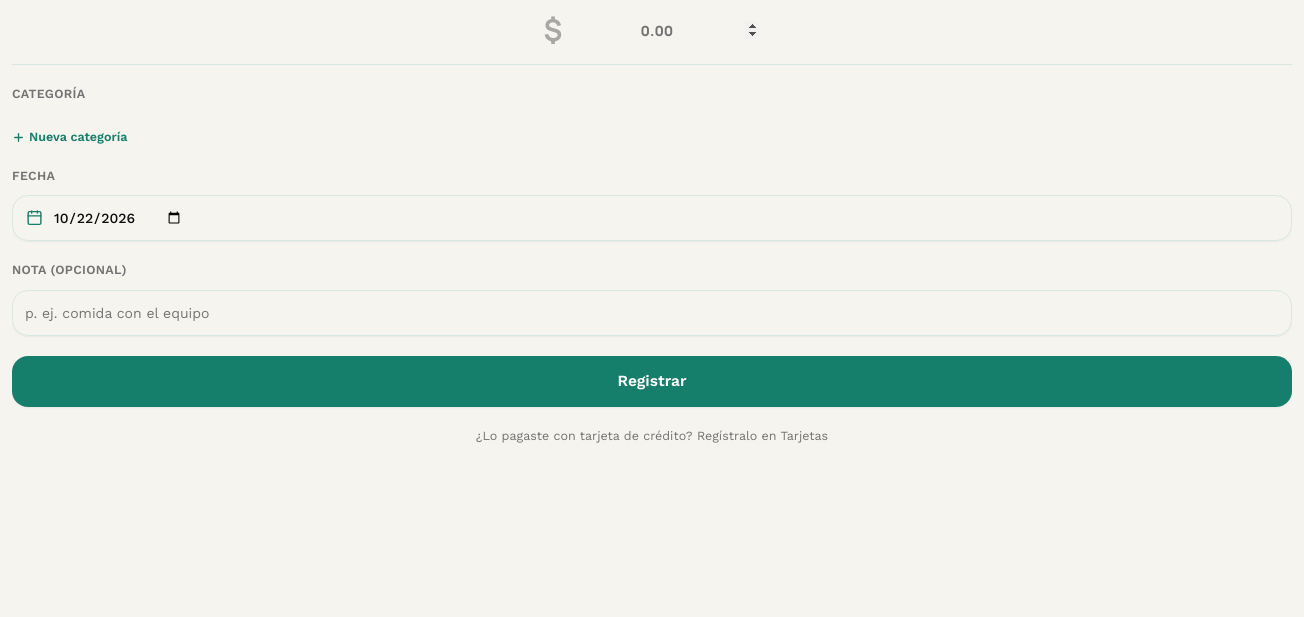
Test: FormularioGasto — pista de la guía sobre los atajos › con la guía en curso y el paso de "Registrar gasto" leído, aparece al escribir un monto
Type "55" into the number field named "¿Cuánto gastaste?" at (664, 30), box x1=568 y1=20 x2=760 y2=40
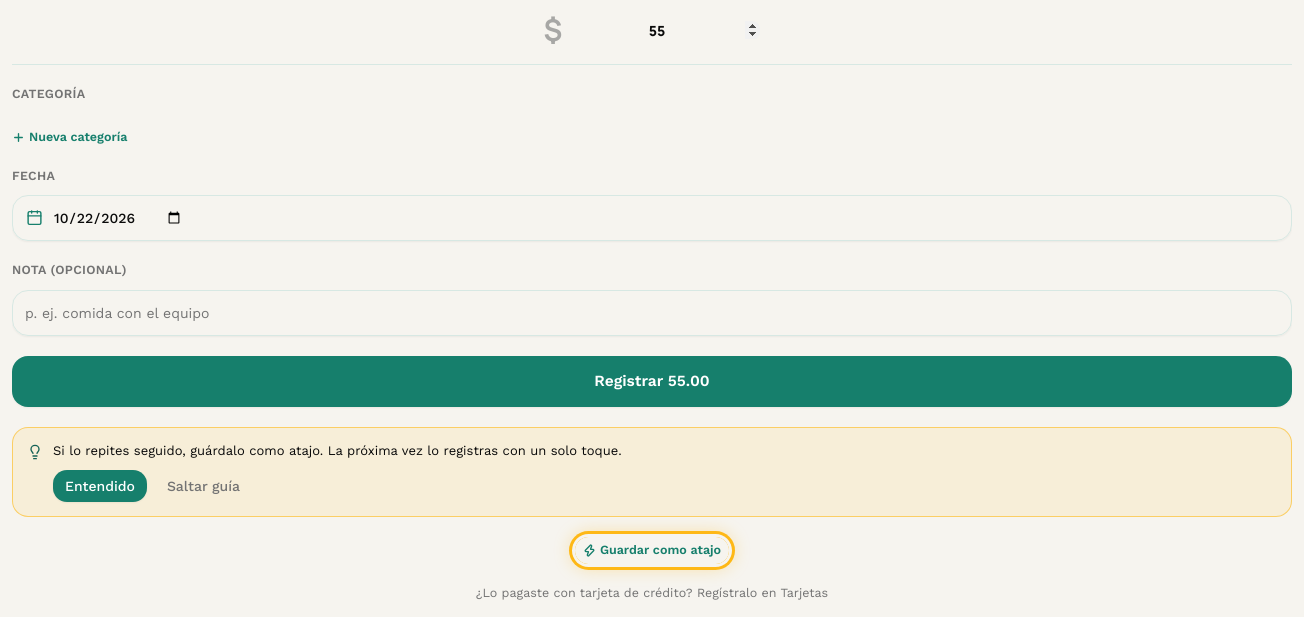
Check: the text "Si lo repites seguido, guárdalo como atajo. La próxima vez lo registras con un solo toque." is shown, box x1=53 y1=443 x2=622 y2=458
